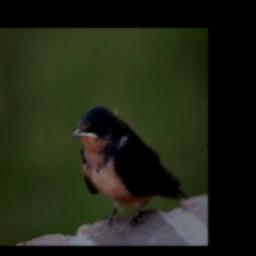Swallow: (70, 104, 188, 229)
